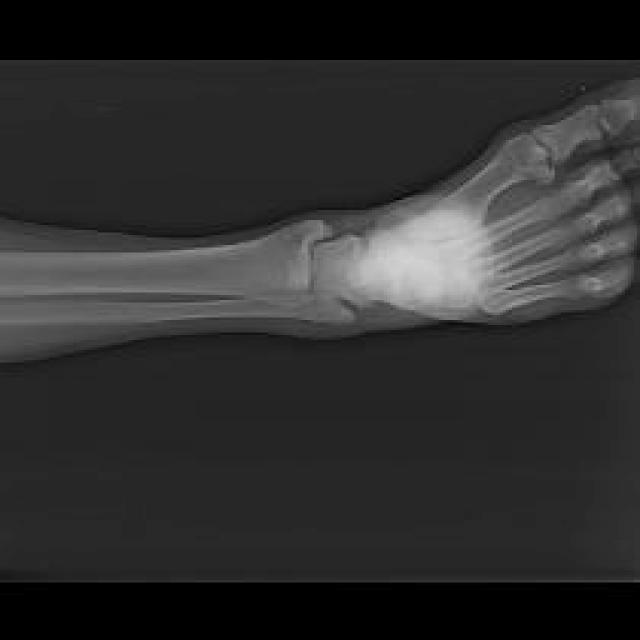normal: (0, 95, 640, 322)
